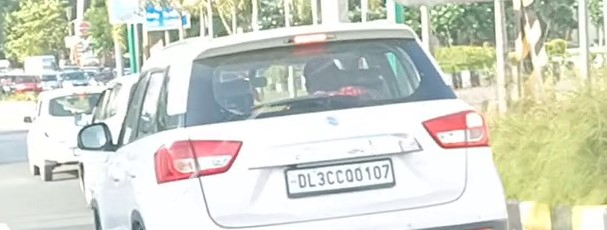DL3CCQ0107: (286, 159, 394, 194)
